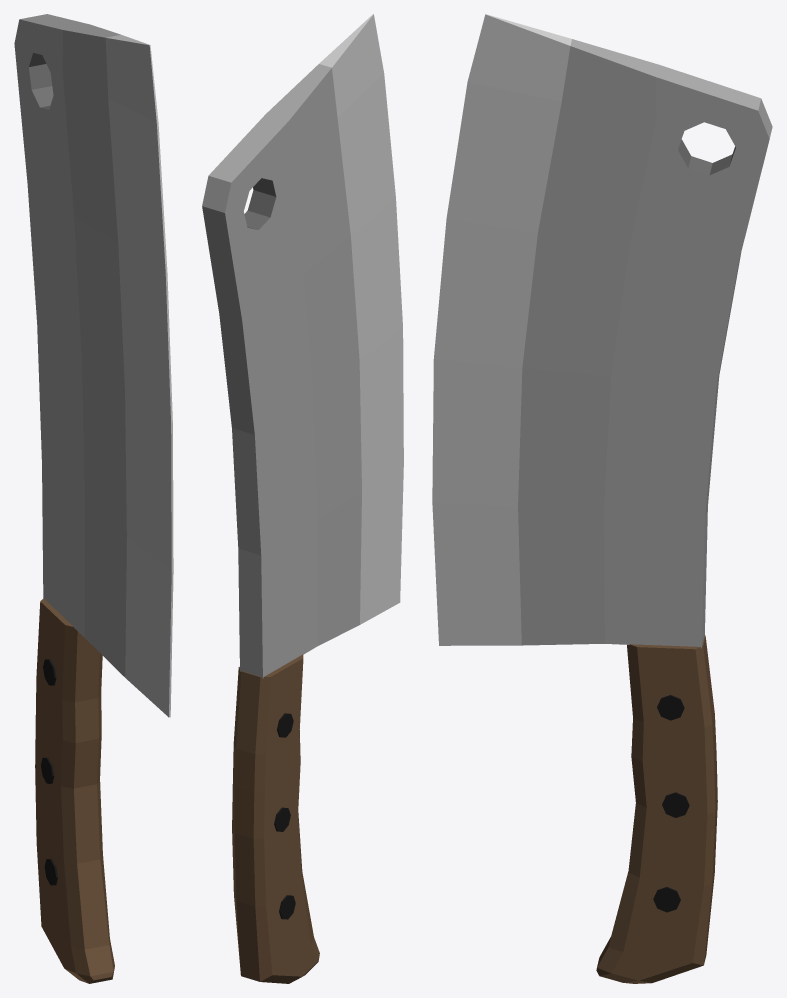
File: Cleaver_ML.glb
3 renders of one model, left to right at view 1: azimuth 30°, elevation 25°; view 2: azimuth 150°, elevation 25°; view 3: azimuth 270°, elevation 25°, orthographic. The views are drawn at different scales.
Visible parts, largest first — view 1: cleaver; view 2: cleaver; view 3: cleaver.
Part boxes in pixels (bbox=[...]): cleaver: bbox=[14, 14, 173, 983]; cleaver: bbox=[202, 14, 403, 983]; cleaver: bbox=[432, 14, 772, 983].
Bounding box in the file's own units: 0.0291 × 0.6007 × 0.1931.
1 material, 1 textured.
